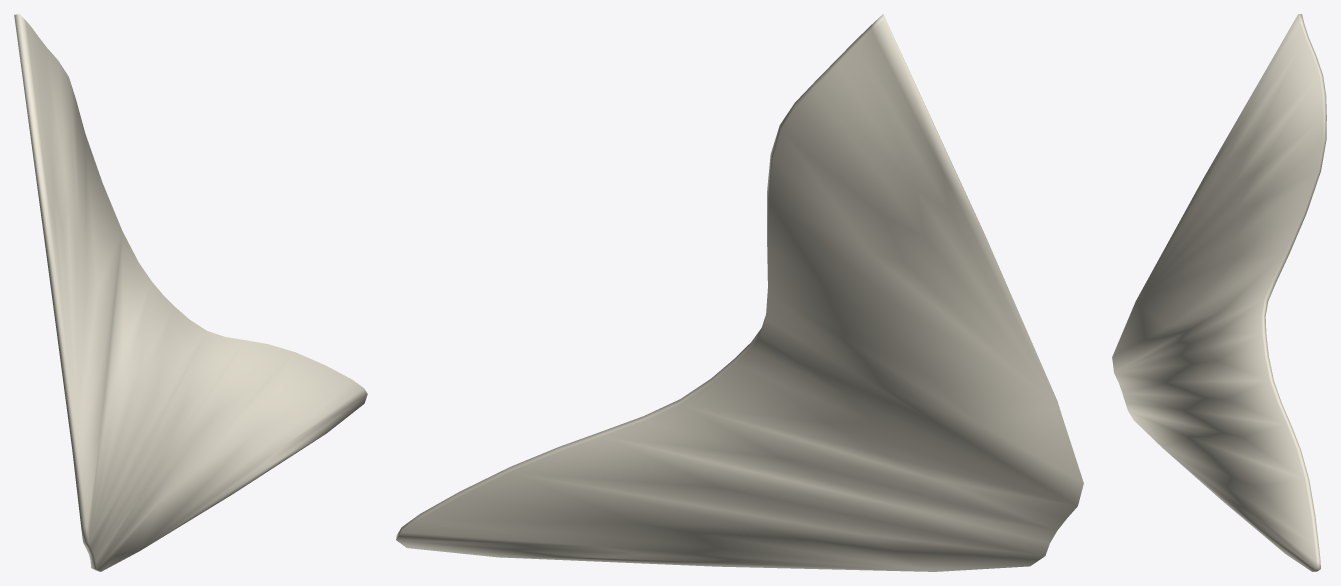
3 renders of one model, left to right at view 1: azimuth 30°, elevation 25°; view 2: azimuth 150°, elevation 25°; view 3: azimuth 270°, elevation 25°, orthographic. The views are drawn at different scales.
Visible parts, largest first — view 1: ZA_8003ef3717638649; view 2: ZA_8003ef3717638649; view 3: ZA_8003ef3717638649.
Boxes of the visible parts, x1,y1,x2,y2 form: ZA_8003ef3717638649: (14, 14, 367, 571); ZA_8003ef3717638649: (396, 14, 1083, 571); ZA_8003ef3717638649: (1112, 14, 1326, 571).
Size of the model in its own units: 0.0379 by 0.044 by 0.0205.
